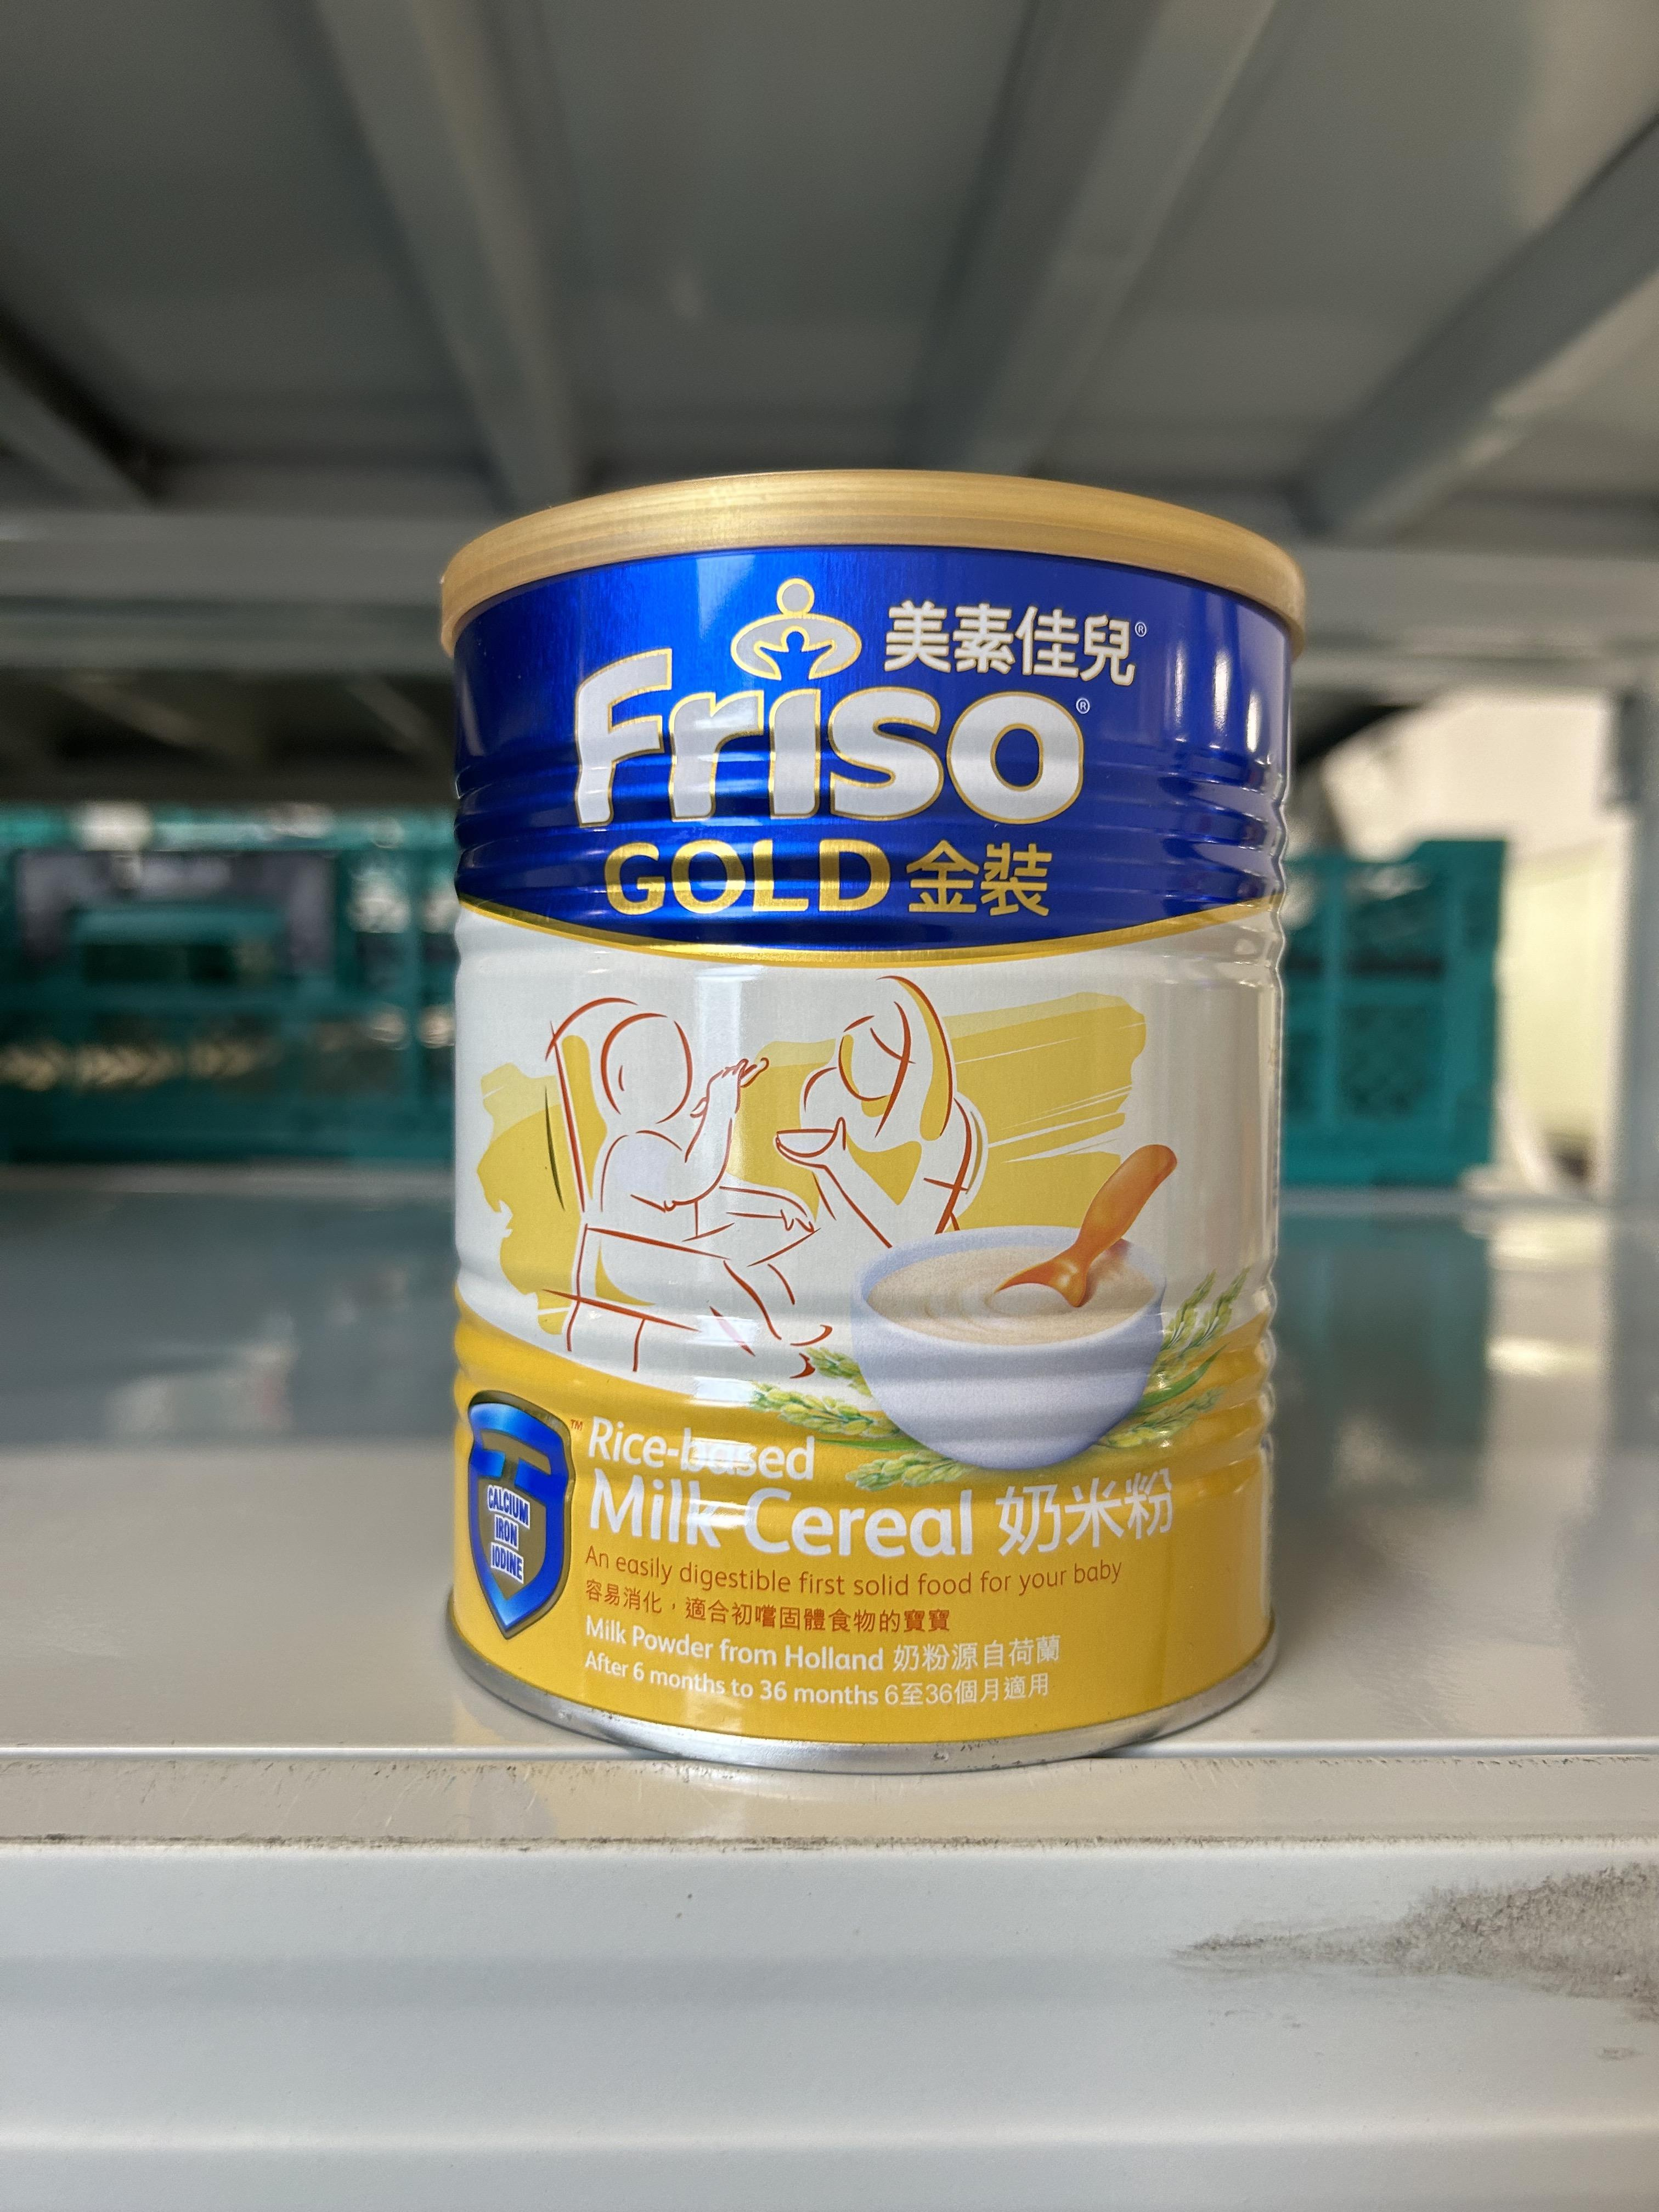object_name: (469, 564, 1265, 1684)
